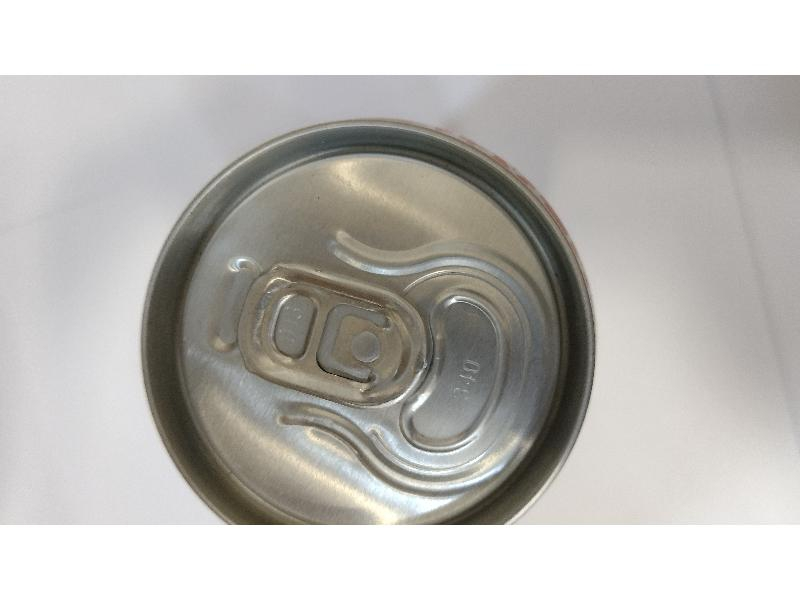can: (130, 118, 602, 530)
